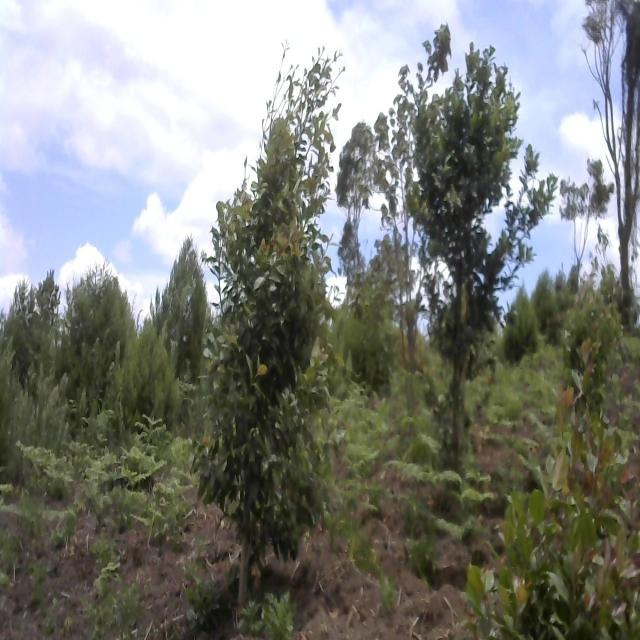Olea europea -africana-: (412, 43, 541, 471)
Syzygium guinesis: (198, 39, 355, 594), (465, 362, 640, 636)
